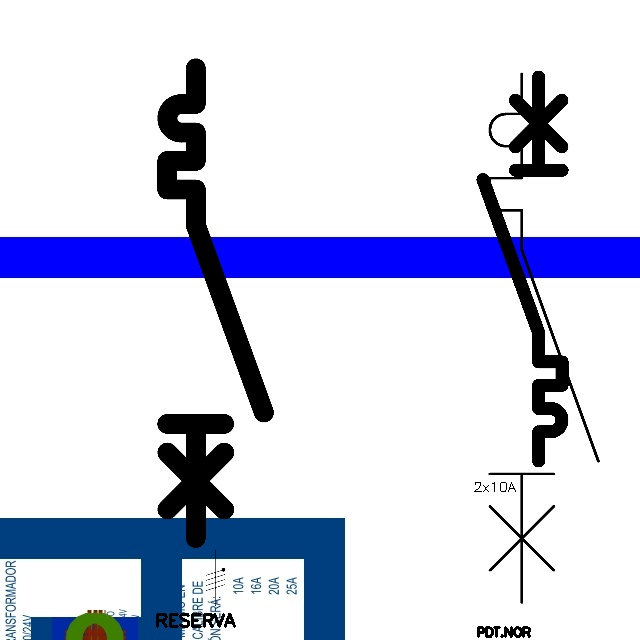interruptor_termomagnetico: (476, 60, 612, 616), (155, 56, 276, 550), (473, 67, 572, 471)
